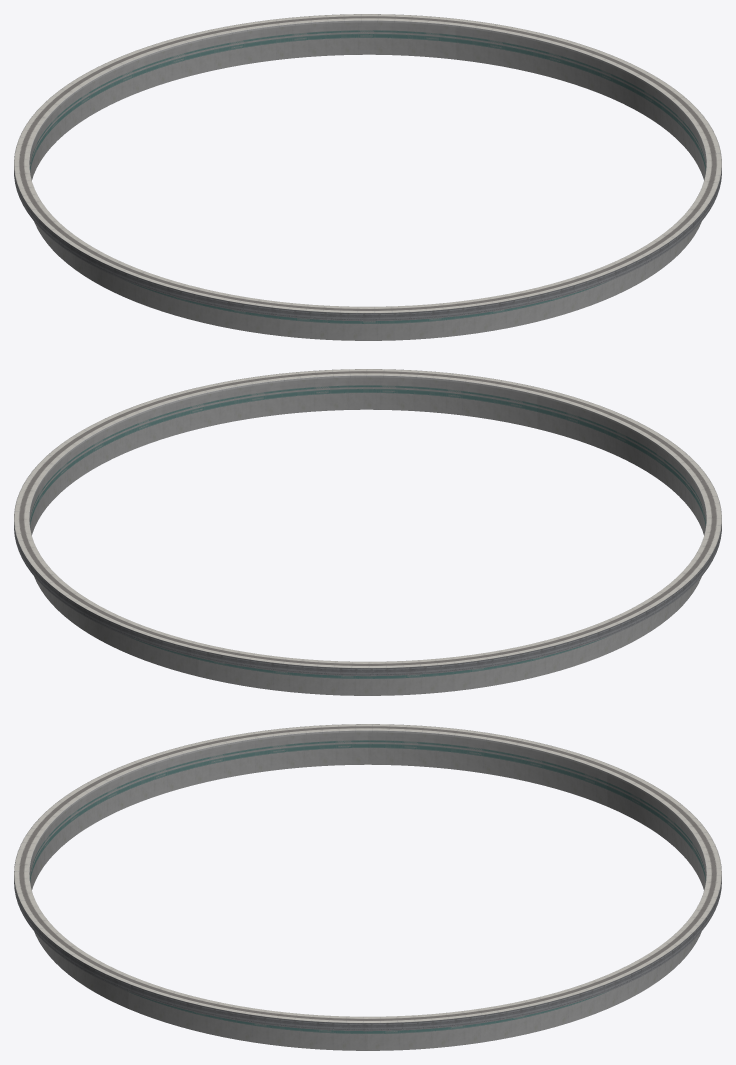
The model's file is PondWall.dae.
The picture shows the model from 3 angles, top to bottom: view 1: azimuth 30°, elevation 25°; view 2: azimuth 150°, elevation 25°; view 3: azimuth 270°, elevation 25°; orthographic projection.
Parts seen in each view (by area): view 1: PoolWalls; view 2: PoolWalls; view 3: PoolWalls.
Boxes of the visible parts, x1,y1,x2,y2 form: PoolWalls: (14,14,721,340); PoolWalls: (14,369,721,695); PoolWalls: (14,724,721,1050).
Size of the model in its own units: 159 by 159 by 8.49.
Materials: 1 (1 with a texture image).
